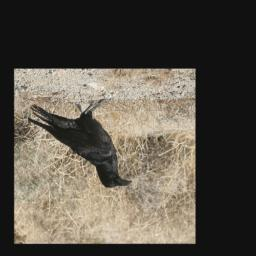Crow: (27, 99, 132, 189)
